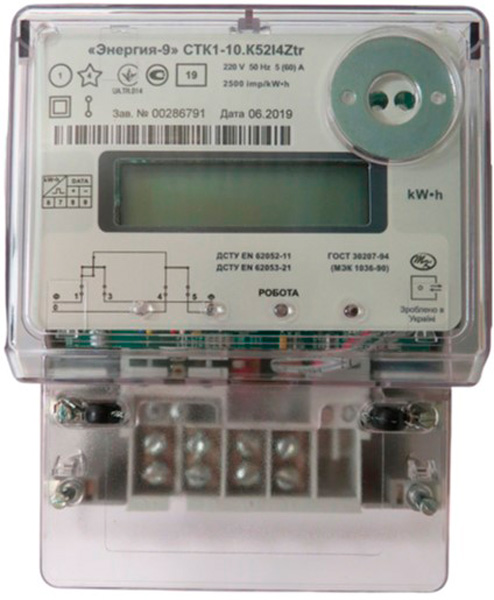counter_screen: (113, 152, 375, 231)
